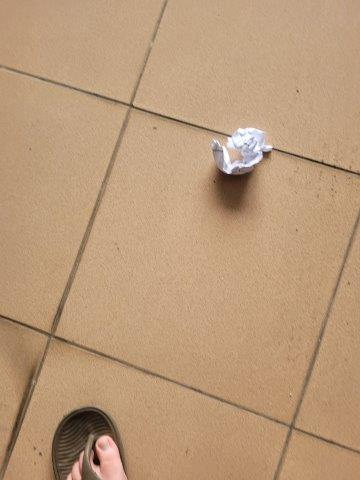kertas: (209, 125, 275, 181)
